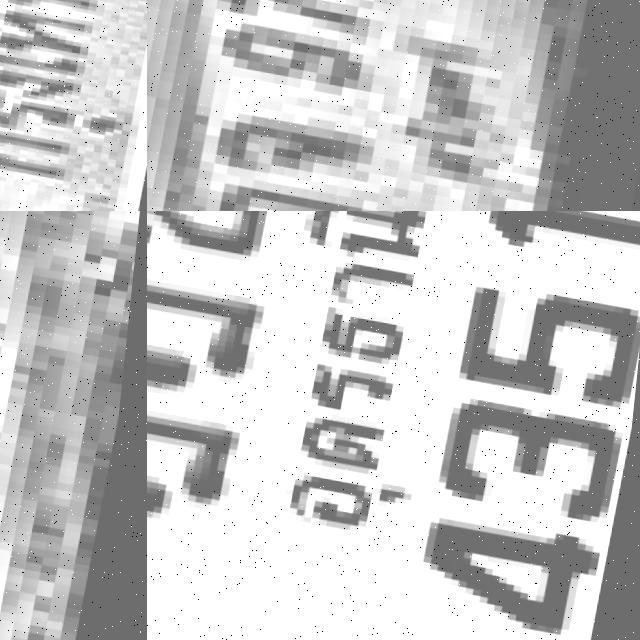license-plate: (147, 211, 640, 640), (147, 0, 626, 211), (0, 211, 147, 640), (0, 0, 147, 211)
